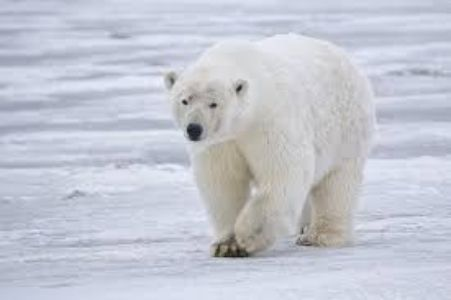bear: (161, 27, 387, 263)
